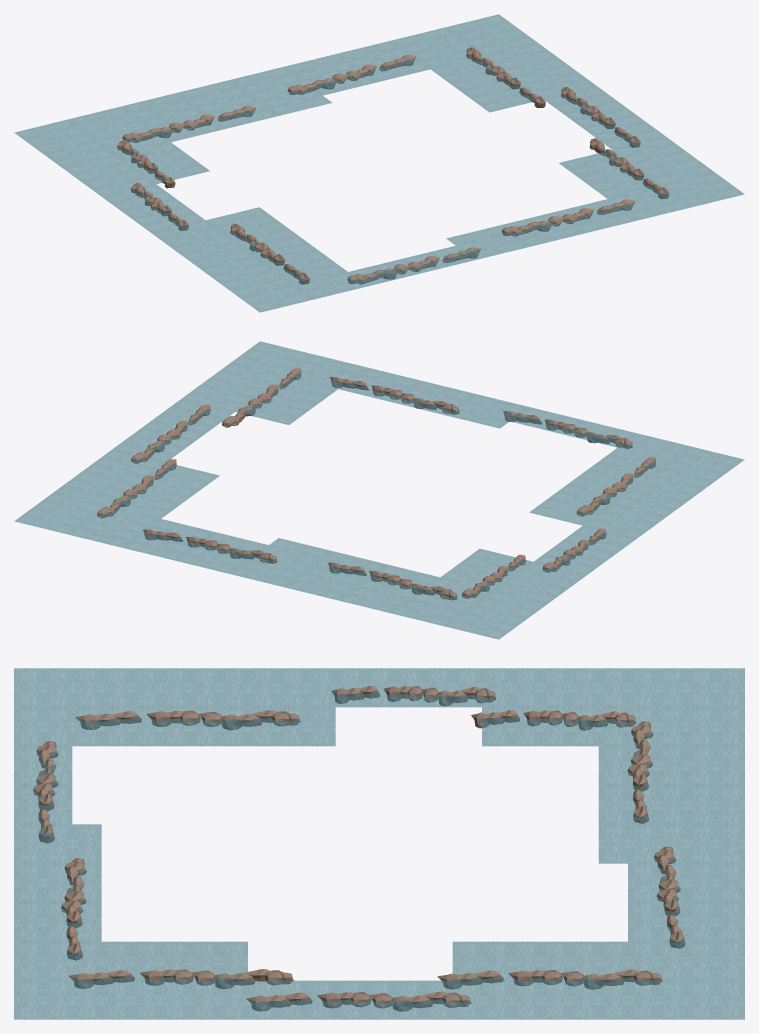
File: daban_shui.fbx
3 views of the same model, one above another, from view 1: azimuth 30°, elevation 25°; view 2: azimuth 150°, elevation 25°; view 3: azimuth 270°, elevation 25° (orthographic). The views are drawn at different scales.
Visible parts, largest first — view 1: 平面.003, 棱角球.002, 棱角球.001, 棱角球.127, 棱角球.003, 棱角球.004, 棱角球.006, 棱角球.005, 棱角球.007, 棱角球.009, 棱角球.008; view 2: 平面.003, 棱角球.003, 棱角球.127, 棱角球.001, 棱角球.002, 棱角球.006, 棱角球.004, 棱角球.005, 棱角球.007, 棱角球.009, 棱角球.008; view 3: 平面.003, 棱角球.004, 棱角球.006, 棱角球.005, 棱角球.007, 棱角球.008, 棱角球.009, 棱角球.003, 棱角球.002, 棱角球.001, 棱角球.127.
Boxes of the visible parts, x1,y1,x2,y2 form: 平面.003: (14,14,744,312); 棱角球.002: (122,106,256,142); 棱角球.001: (501,199,635,236); 棱角球.127: (347,247,480,283); 棱角球.003: (287,55,416,94); 棱角球.004: (466,47,545,107); 棱角球.006: (589,138,668,198); 棱角球.005: (561,87,640,147); 棱角球.007: (230,223,309,284); 棱角球.009: (117,140,175,188); 棱角球.008: (131,183,188,230); 平面.003: (14,341,744,639); 棱角球.003: (143,529,276,563); 棱角球.127: (503,411,632,448); 棱角球.001: (330,377,459,414); 棱角球.002: (328,562,457,600); 棱角球.006: (222,368,300,427); 棱角球.004: (97,459,176,517); 棱角球.005: (131,404,210,463); 棱角球.007: (577,457,655,516); 棱角球.009: (462,554,525,598); 棱角球.008: (543,528,606,572); 平面.003: (14,668,744,1019); 棱角球.004: (437,969,662,989); 棱角球.006: (69,969,293,988); 棱角球.005: (246,991,470,1011); 棱角球.007: (75,710,300,729); 棱角球.008: (331,686,495,705); 棱角球.009: (471,710,635,730); 棱角球.003: (654,846,684,948); 棱角球.002: (627,721,652,823); 棱角球.001: (61,858,86,960); 棱角球.127: (33,741,58,842).
Bounding box in the file's own units: 28451 × 717 × 25000.
